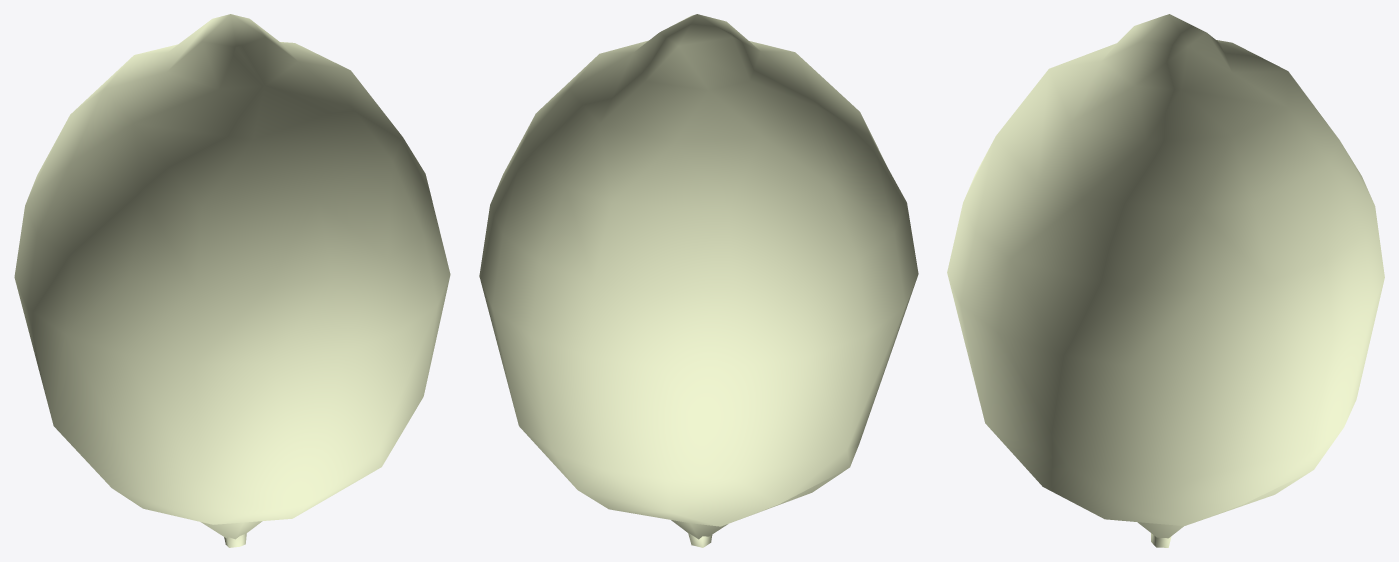
File: FP_lemon.FBX
The picture shows the model from 3 angles, left to right: view 1: azimuth 30°, elevation 25°; view 2: azimuth 150°, elevation 25°; view 3: azimuth 270°, elevation 25°; orthographic projection.
Visible parts, largest first — view 1: FP_lemon; view 2: FP_lemon; view 3: FP_lemon.
Part boxes in pixels (x1,y1,x2,y2): FP_lemon: [14, 14, 450, 547]; FP_lemon: [479, 14, 918, 547]; FP_lemon: [947, 14, 1384, 547].
Bounding box in the file's own units: 0.0486 × 0.0661 × 0.0494.
